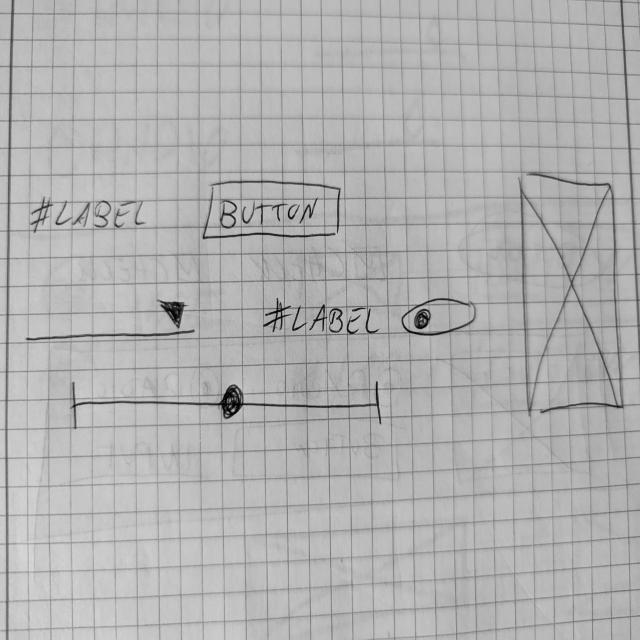button: (202, 179, 346, 244)
image: (518, 171, 628, 420)
label: (27, 195, 152, 235), (261, 298, 381, 339)
select: (70, 379, 387, 433), (25, 299, 202, 347)
